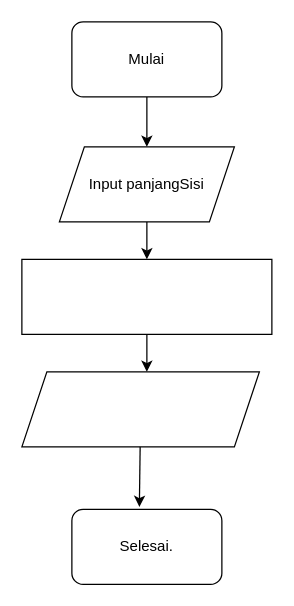
This 294x606 diagram has some shape labels left out. The centre of each missing label's shape, as x and y in pixels:
"LuasPermukaan": point 140,409
LuasPermukaan = 6*panjangSisi*panjangSisi: point 146,296
